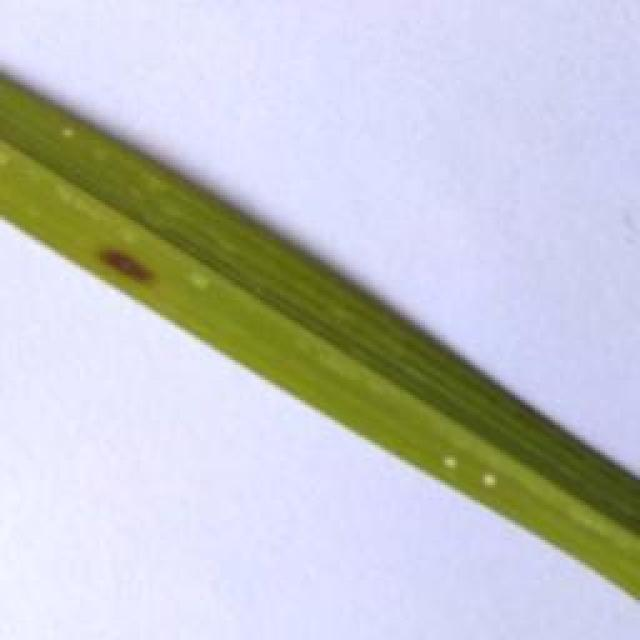Brown_Spot: (92, 240, 165, 304)
